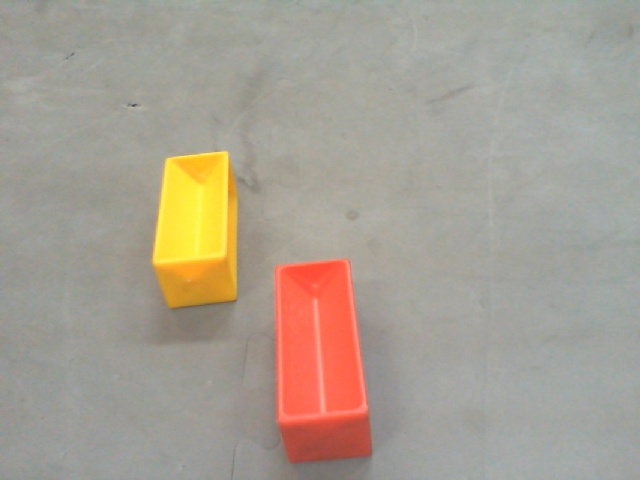RedSample: (272, 256, 375, 466)
YellowSample: (149, 150, 240, 316)
